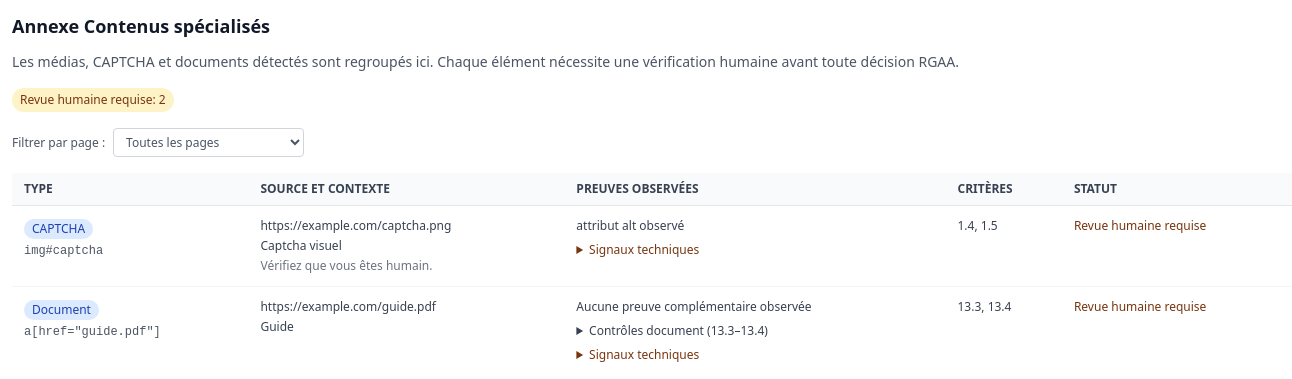
Test case: AnnexeContenusSpecialises › filtre par page
Select "https://example.com/other" in the dropdown labelled "Filtrer par page :". click: (209, 142)
box: [113,128,304,157]
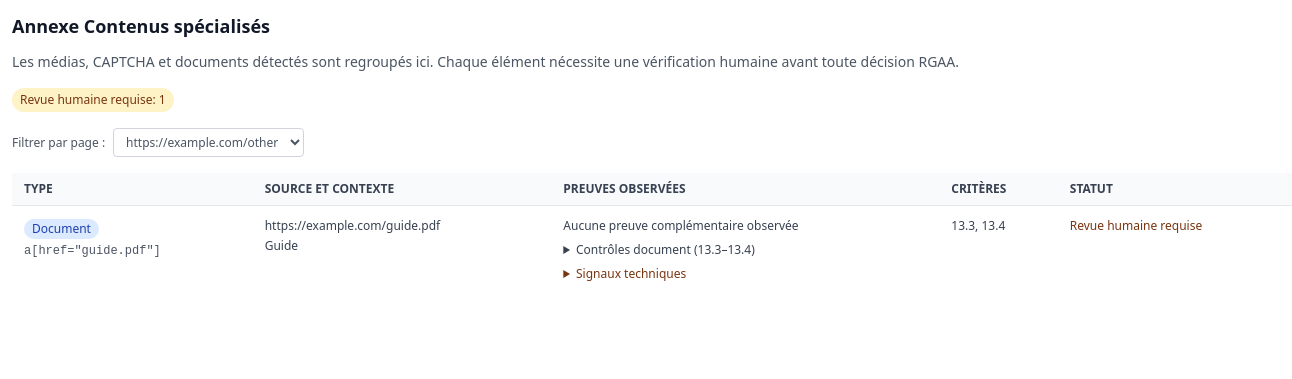
Expected: the text "a[href=\"guide.pdf\"]" is shown, [24,244,161,258]
Now the text "img#captcha" is gone
